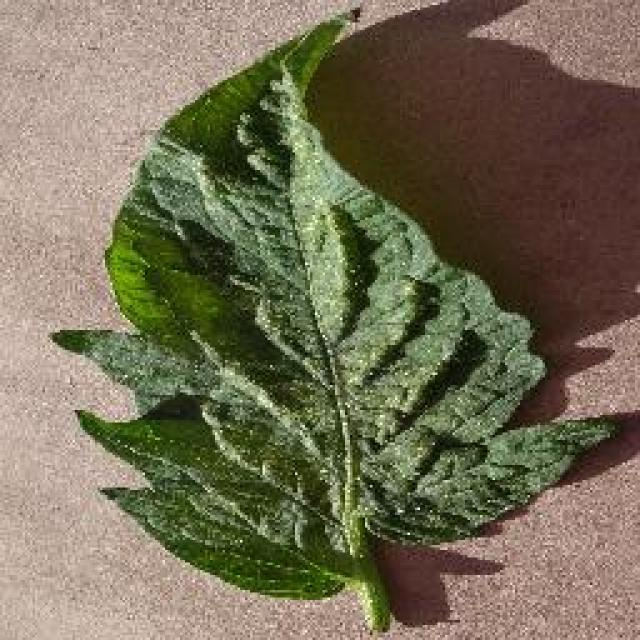Tomato___Spider_mites Two-spotted_spider_mite: (52, 12, 612, 630)
